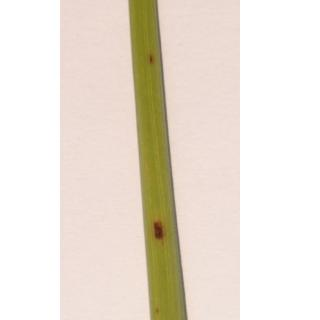bercak-Cokelat: (150, 212, 172, 253), (142, 53, 157, 68)
